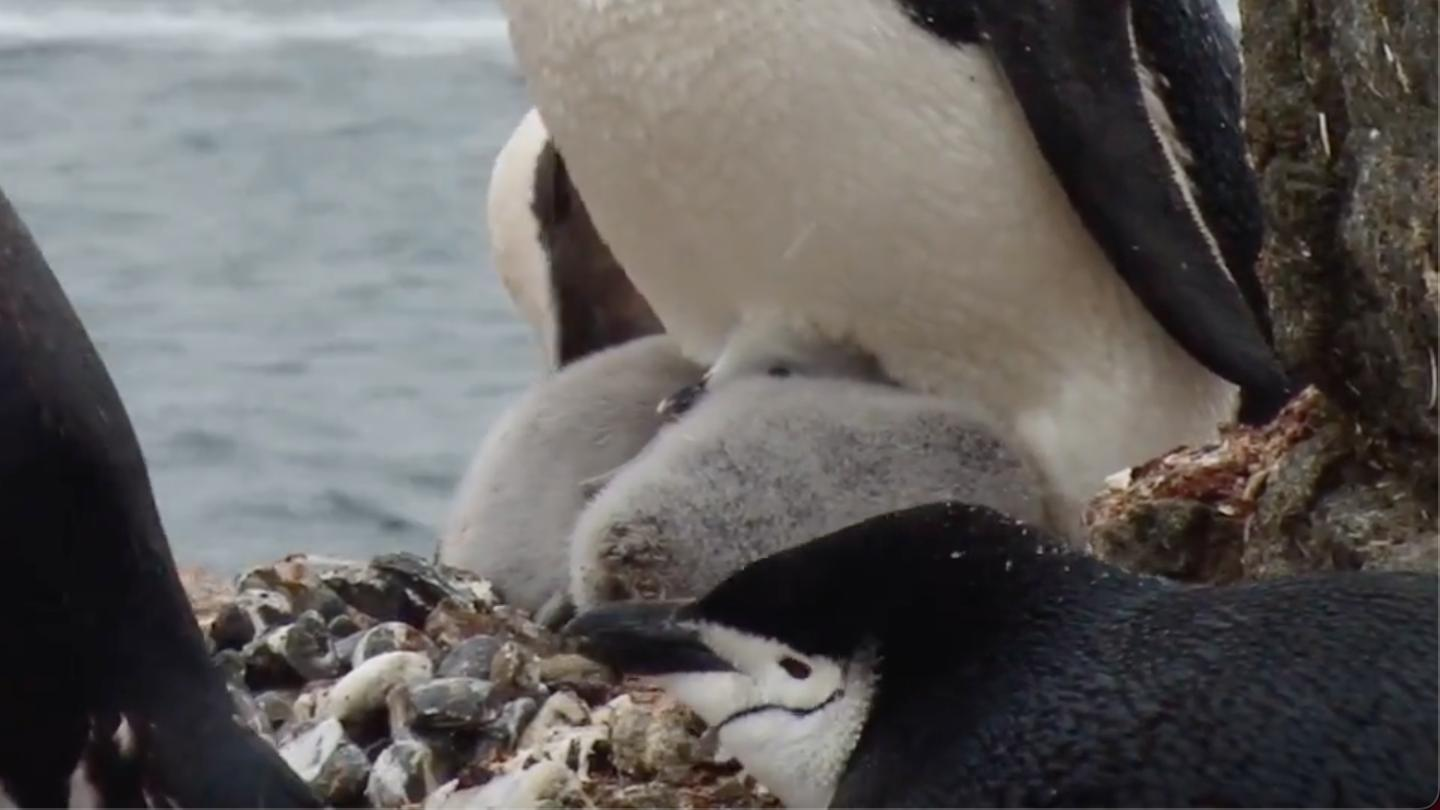Chinstrap Penguin: (406, 0, 1228, 399), (500, 473, 1440, 810)
